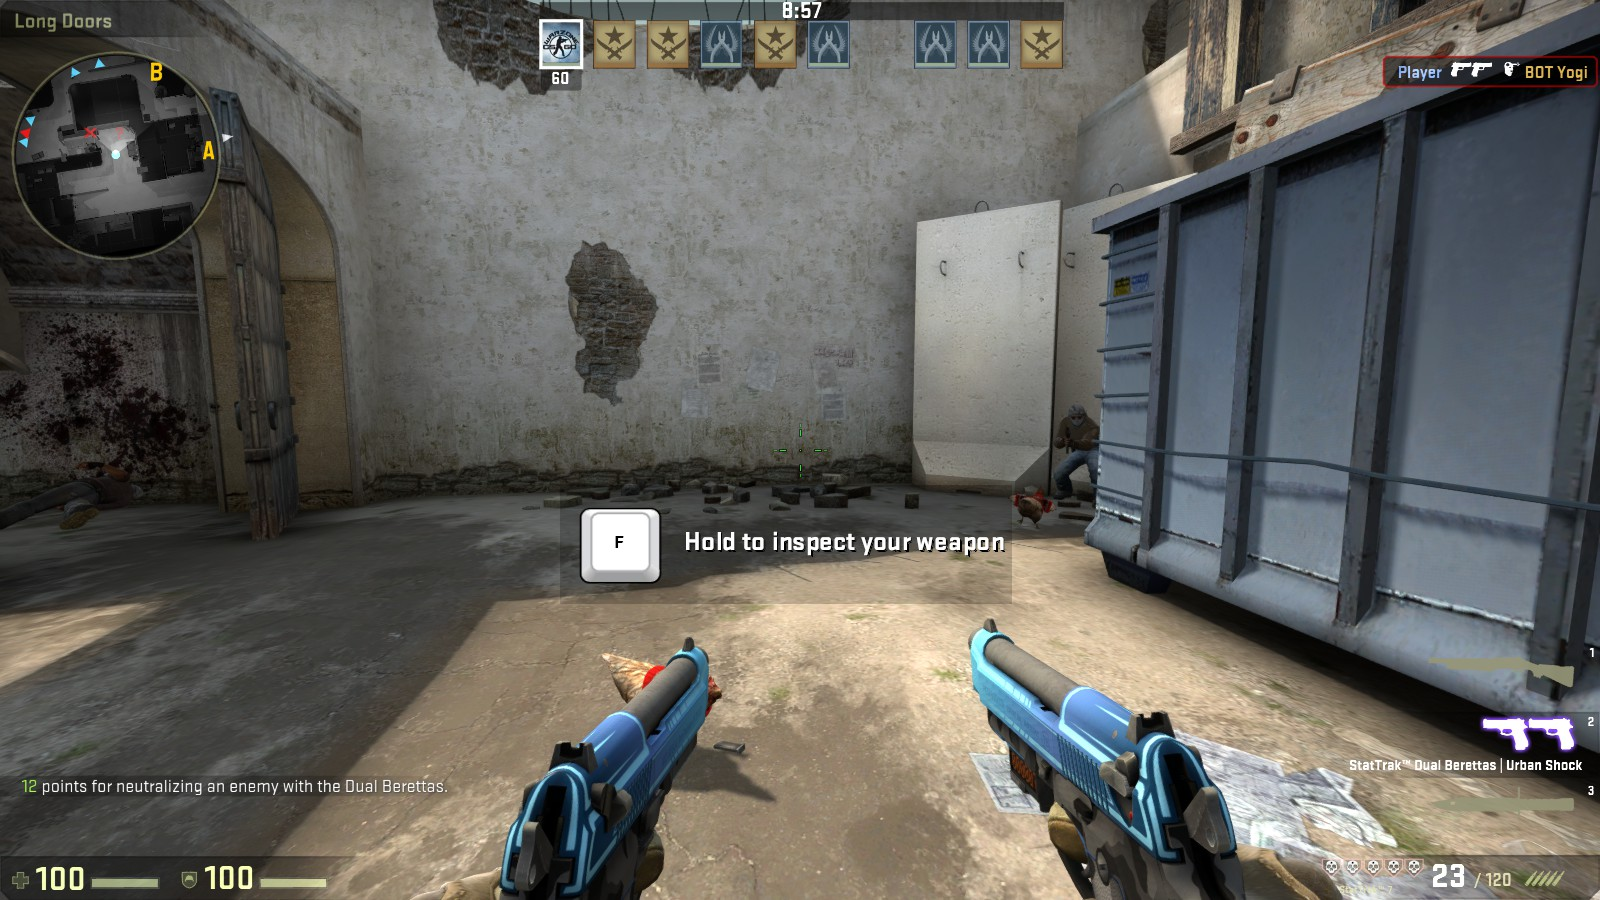t: (1053, 405, 1105, 508)
th: (1066, 404, 1090, 427)
